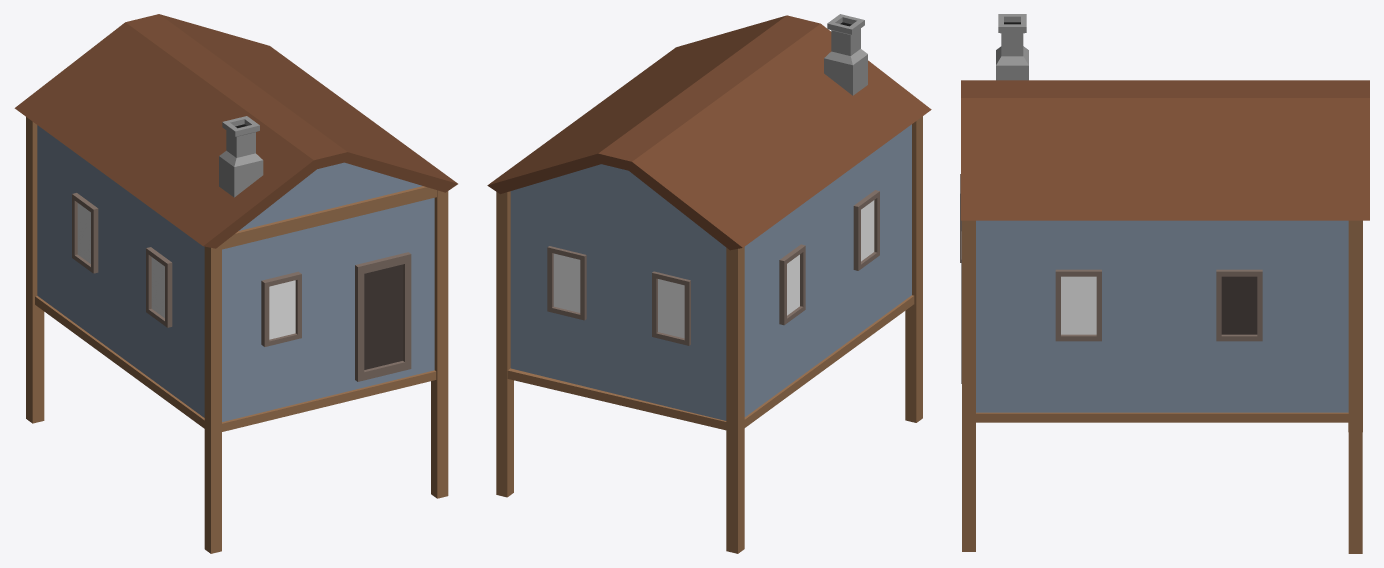
Rendered from M_House_Building_2.fbx.
3 views of the same model, side by side, from view 1: azimuth 30°, elevation 25°; view 2: azimuth 150°, elevation 25°; view 3: azimuth 270°, elevation 25° (orthographic). The views are drawn at different scales.
Visible parts, largest first — view 1: M_House_Building_2; view 2: M_House_Building_2; view 3: M_House_Building_2.
Boxes of the visible parts, x1,y1,x2,y2 form: M_House_Building_2: [14, 14, 457, 553]; M_House_Building_2: [487, 14, 931, 553]; M_House_Building_2: [960, 14, 1369, 553].
Size of the model in its own units: 446 by 668 by 572.
